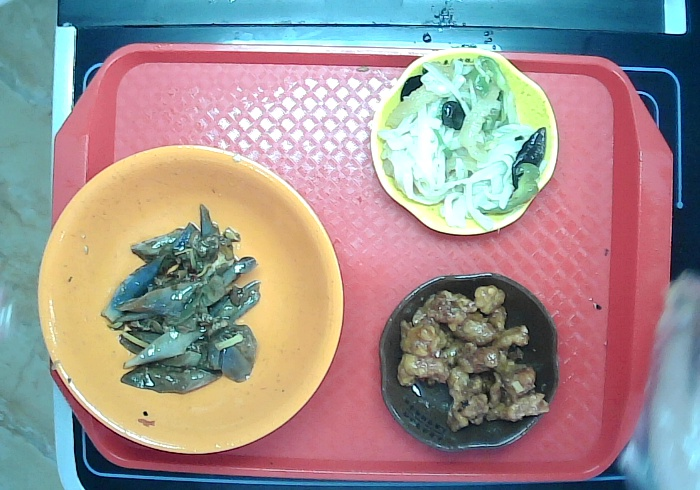YKMZ-Huang_Se_Ao_Bian_Wan: (367, 46, 561, 236)
YKMZ-Ju_Se_Tang_Wan: (33, 140, 347, 455)
YKMZ-Ka_Fei_Ao_Bian_Wan: (379, 270, 561, 453)
